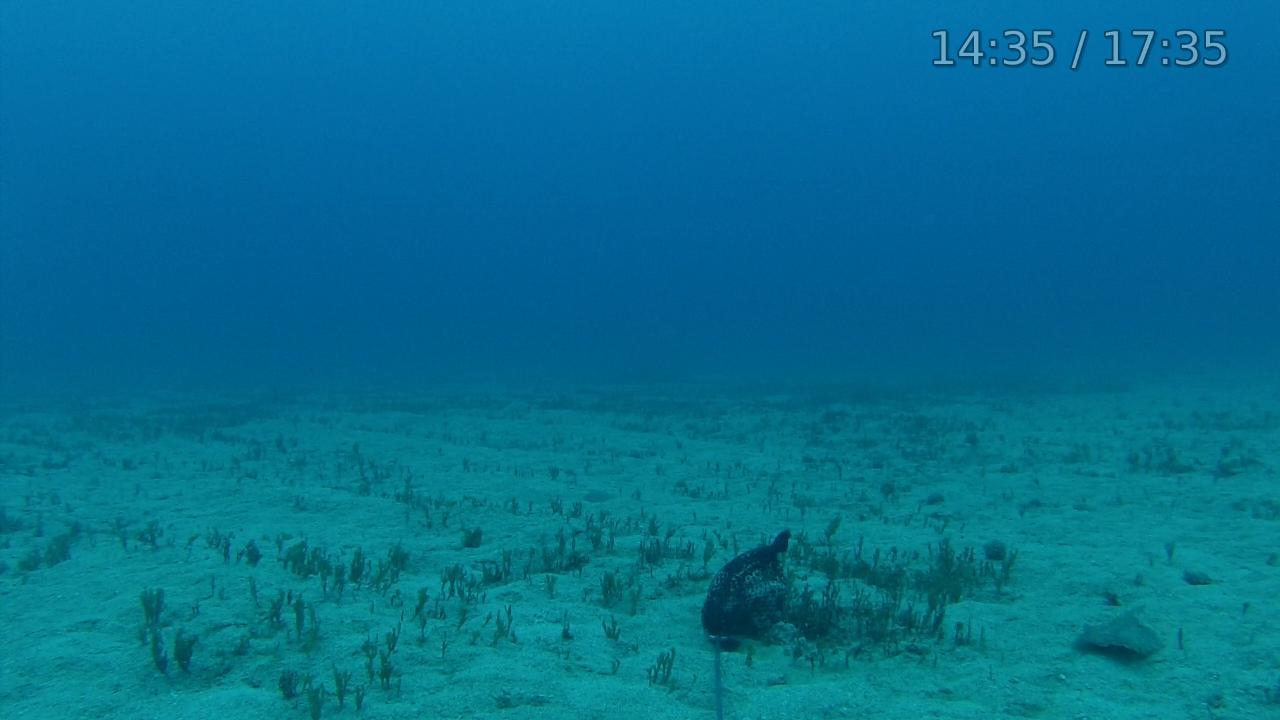bothus: (1069, 601, 1170, 664)
